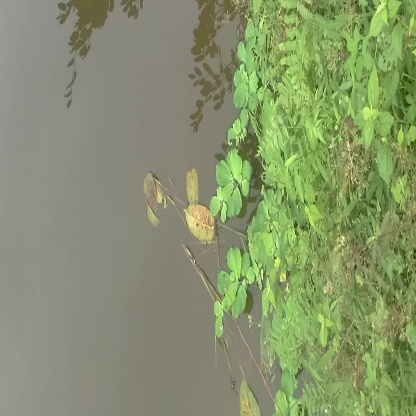leaf: (181, 197, 225, 244)
